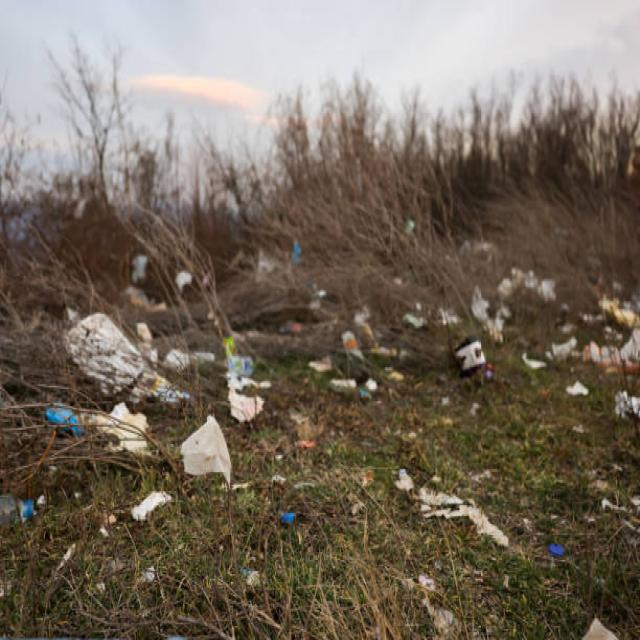plastic: (184, 432, 235, 484)
